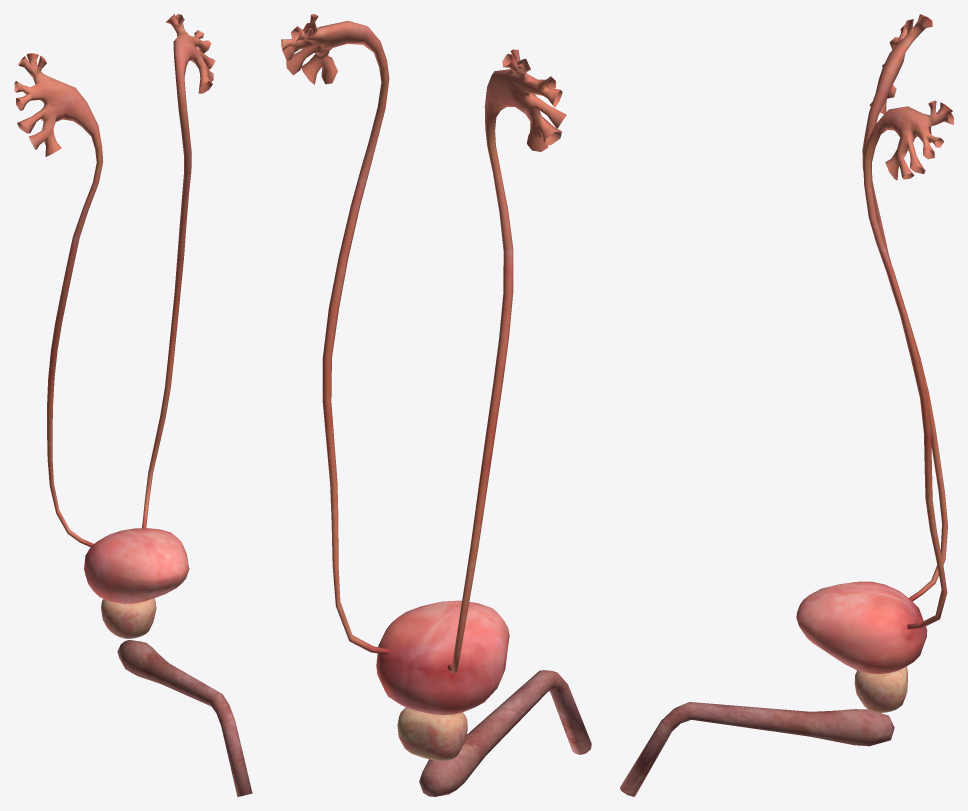
File: 4.5 Urethra.glb
3 views of the same model, side by side, from view 1: azimuth 30°, elevation 25°; view 2: azimuth 150°, elevation 25°; view 3: azimuth 270°, elevation 25° (orthographic). The views are drawn at different scales.
Parts seen in each view (by area): view 1: R_Ureter, Bladder, L_Ureter, Corpus_Spongiosum, Prostate; view 2: Bladder, R_Ureter, L_Ureter, Corpus_Spongiosum, Prostate; view 3: Bladder, L_Ureter, Corpus_Spongiosum, R_Ureter, Prostate.
Part boxes in pixels (left/top/right/bottom): R_Ureter: left=14, top=53, right=103, bottom=547; Bladder: left=84, top=528, right=189, bottom=604; L_Ureter: left=142, top=14, right=215, bottom=528; Corpus_Spongiosum: left=117, top=640, right=252, bottom=796; Prostate: left=101, top=598, right=156, bottom=638; Bladder: left=376, top=600, right=509, bottom=714; R_Ureter: left=447, top=49, right=566, bottom=673; L_Ureter: left=281, top=14, right=389, bottom=654; Corpus_Spongiosum: left=419, top=670, right=591, bottom=796; Prostate: left=397, top=707, right=467, bottom=760; Bladder: left=796, top=581, right=927, bottom=674; L_Ureter: left=863, top=100, right=953, bottom=629; Corpus_Spongiosum: left=620, top=702, right=894, bottom=796; R_Ureter: left=862, top=14, right=947, bottom=601; Prostate: left=854, top=666, right=907, bottom=712.
Bounding box in the file's own units: 0.1181 × 0.3628 × 0.1492.
2 materials, 2 textured.
